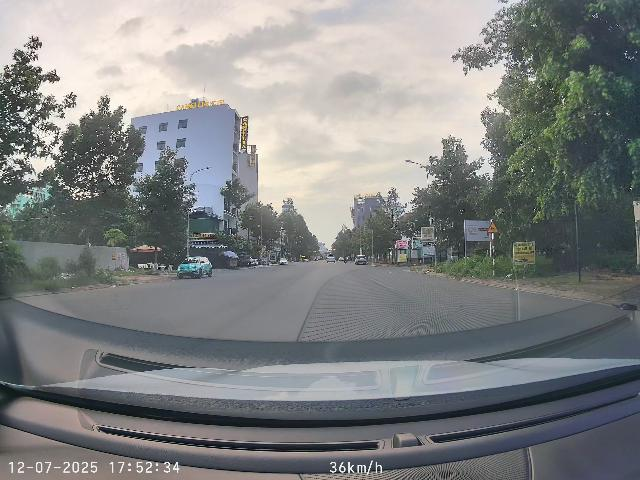225-chu-y-tre-em: (488, 220, 498, 233)
